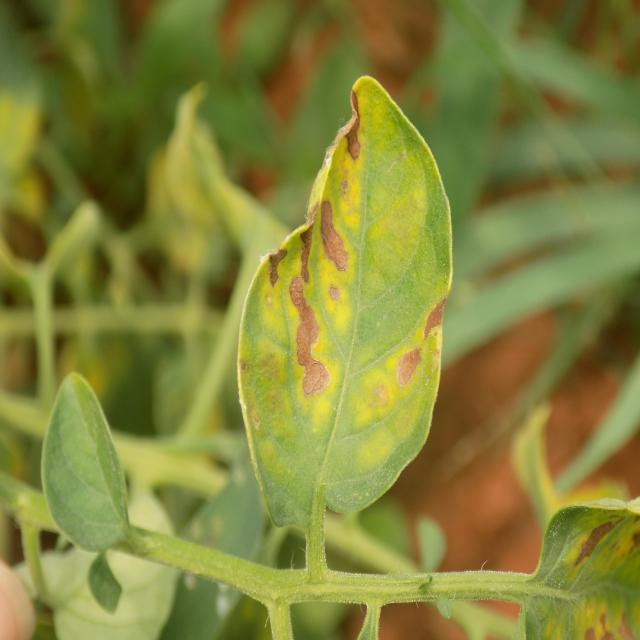tomato_early blight: (239, 70, 445, 535)
